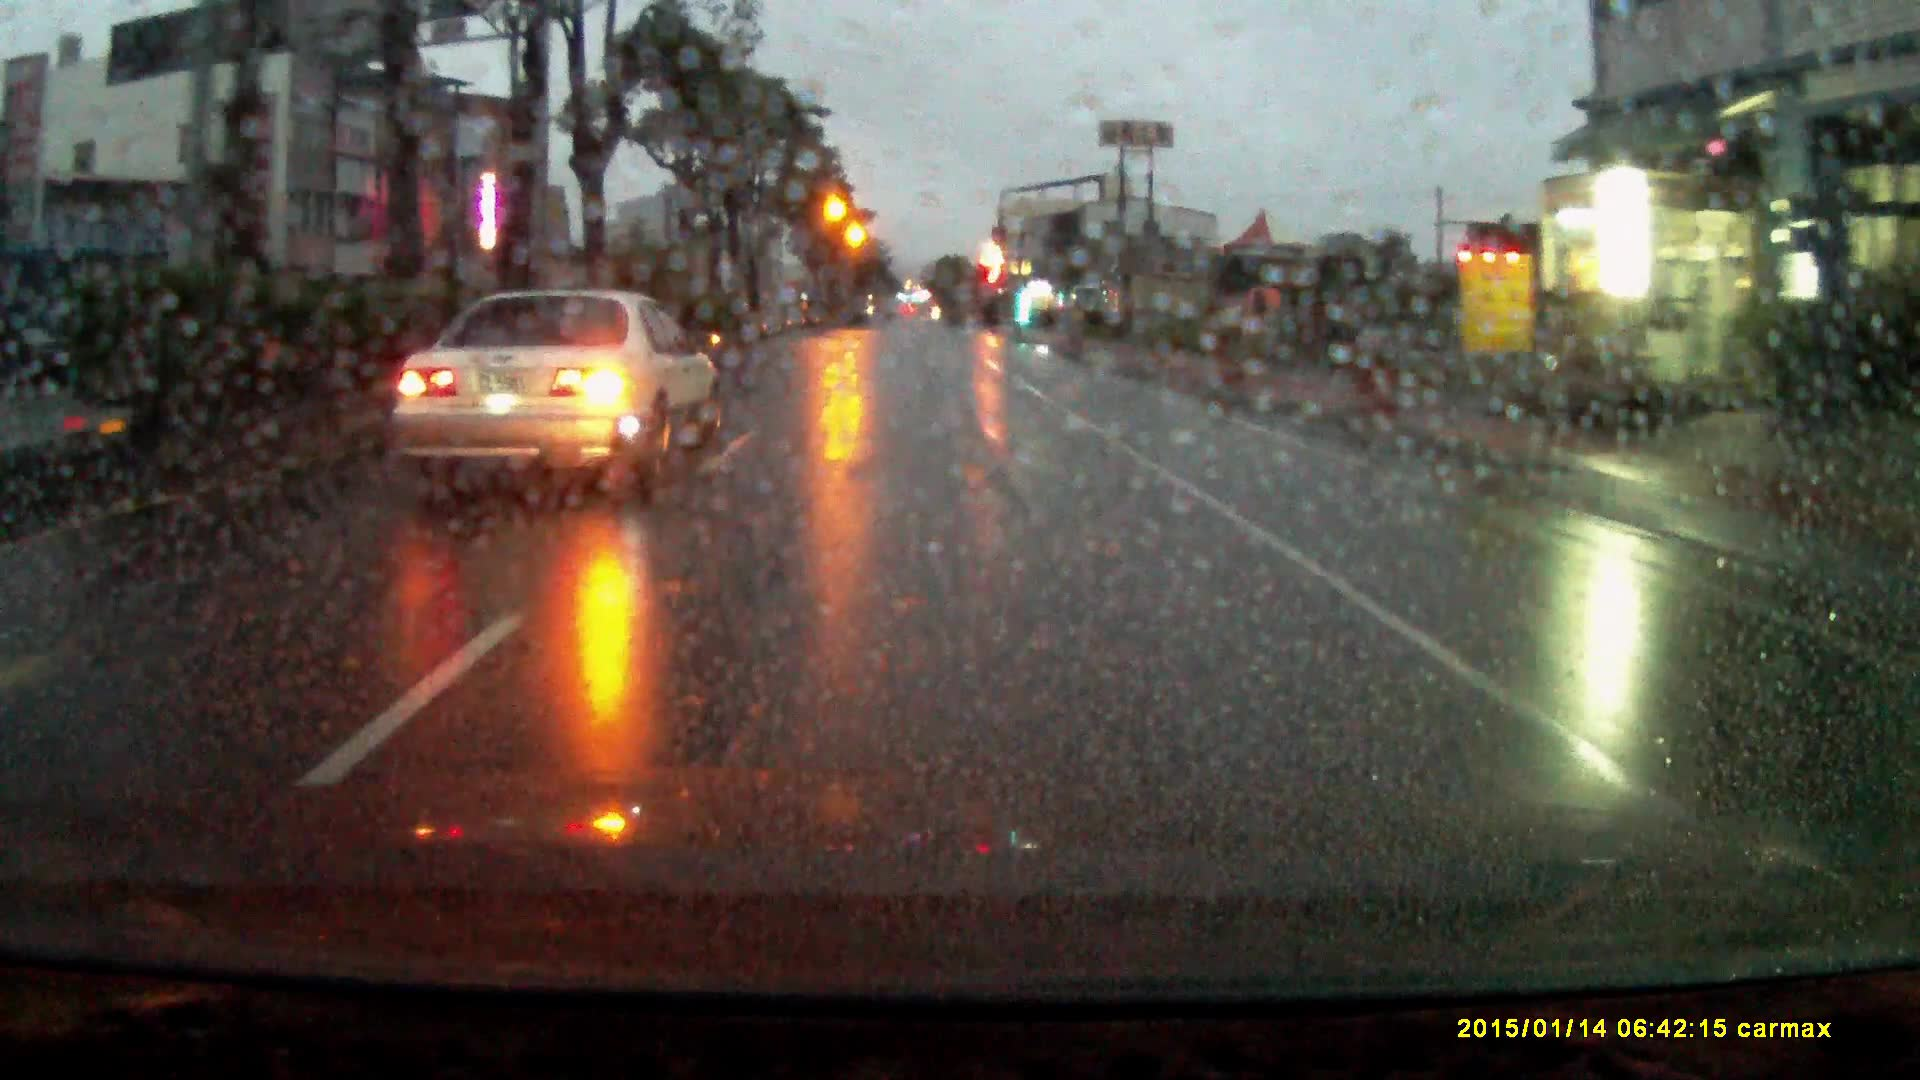vehicle: (389, 289, 729, 504)
